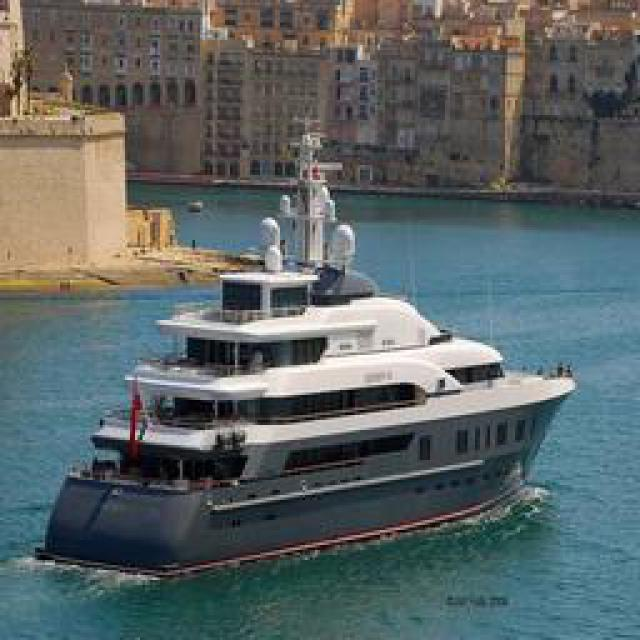Ship: (31, 160, 579, 580)
